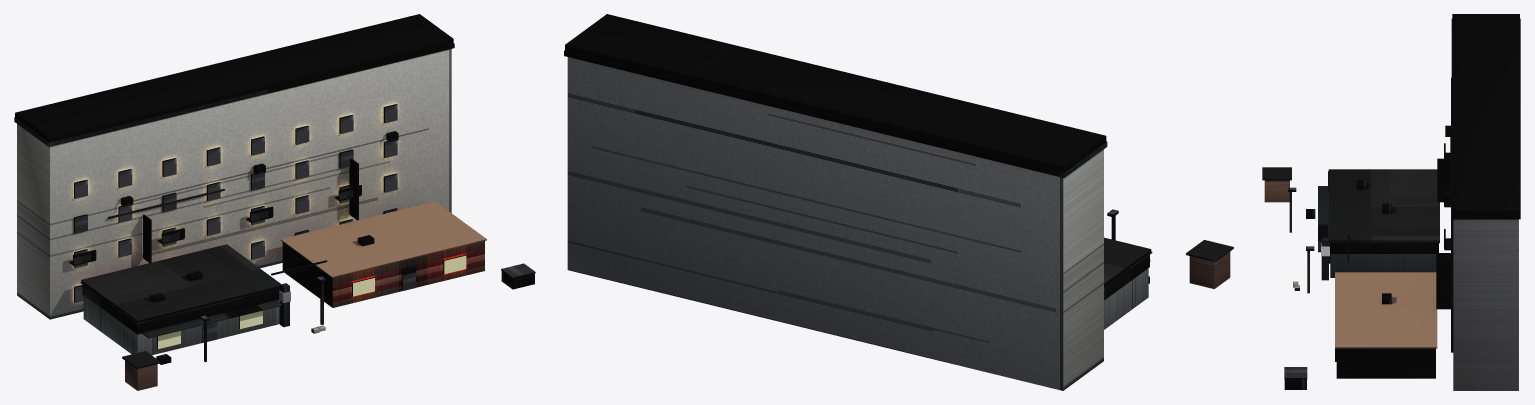
Rendered from courtyard.glb.
3 views of the same model, side by side, from view 1: azimuth 30°, elevation 25°; view 2: azimuth 150°, elevation 25°; view 3: azimuth 270°, elevation 25° (orthographic). The views are drawn at different scales.
Visible parts, largest first — view 1: house, houseParapet, magmaPara, kikRoof, magmaBody, houseRoof, magmaBand, kikBand4, kikBand0, magmaCanopy, kikBand3, kikBand1 (+3 smaller); view 2: house, houseParapet, houseRoof, magmaBody, magmaPara, kiosk, kioskRoof, magmaBand; view 3: houseParapet, house, magmaPara, kikRoof, magmaBody, magmaBand, houseRoof, kikBand4, wireC, kikBand0, kikBand1, kikBand3 (+9 smaller).
Part boxes in pixels (left/top/right/bottom): house: left=17, top=49, right=451, bottom=319; houseParapet: left=15, top=14, right=453, bottom=142; magmaPara: left=81, top=244, right=280, bottom=322; kikRoof: left=280, top=201, right=486, bottom=277; magmaBody: left=83, top=295, right=279, bottom=355; houseRoof: left=14, top=43, right=454, bottom=146; magmaBand: left=82, top=284, right=279, bottom=334; kikBand4: left=282, top=241, right=484, bottom=285; kikBand0: left=282, top=265, right=484, bottom=307; magmaCanopy: left=142, top=300, right=281, bottom=338; kikBand3: left=282, top=248, right=484, bottom=290; kikBand1: left=282, top=260, right=484, bottom=302; house: left=567, top=57, right=1103, bottom=390; houseParapet: left=565, top=14, right=1106, bottom=172; houseRoof: left=564, top=50, right=1107, bottom=177; magmaBody: left=1104, top=268, right=1148, bottom=329; magmaPara: left=1104, top=237, right=1151, bottom=285; kiosk: left=1189, top=252, right=1230, bottom=288; kioskRoof: left=1186, top=240, right=1233, bottom=262; magmaBand: left=1104, top=255, right=1149, bottom=300; houseParapet: left=1452, top=14, right=1519, bottom=214; house: left=1453, top=219, right=1518, bottom=390; magmaPara: left=1328, top=169, right=1439, bottom=241; kikRoof: left=1335, top=272, right=1437, bottom=348; magmaBody: left=1330, top=254, right=1436, bottom=277; magmaBand: left=1329, top=243, right=1438, bottom=253; houseRoof: left=1451, top=18, right=1520, bottom=219; kikBand4: left=1336, top=348, right=1435, bottom=356; wireC: left=1436, top=253, right=1450, bottom=309; kikBand0: left=1336, top=373, right=1435, bottom=378; kikBand1: left=1336, top=367, right=1435, bottom=372; kikBand3: left=1336, top=356, right=1435, bottom=361.
Size of the model in its own units: 44.8 by 18.95 by 24.4.
18 materials, 18 textured.
